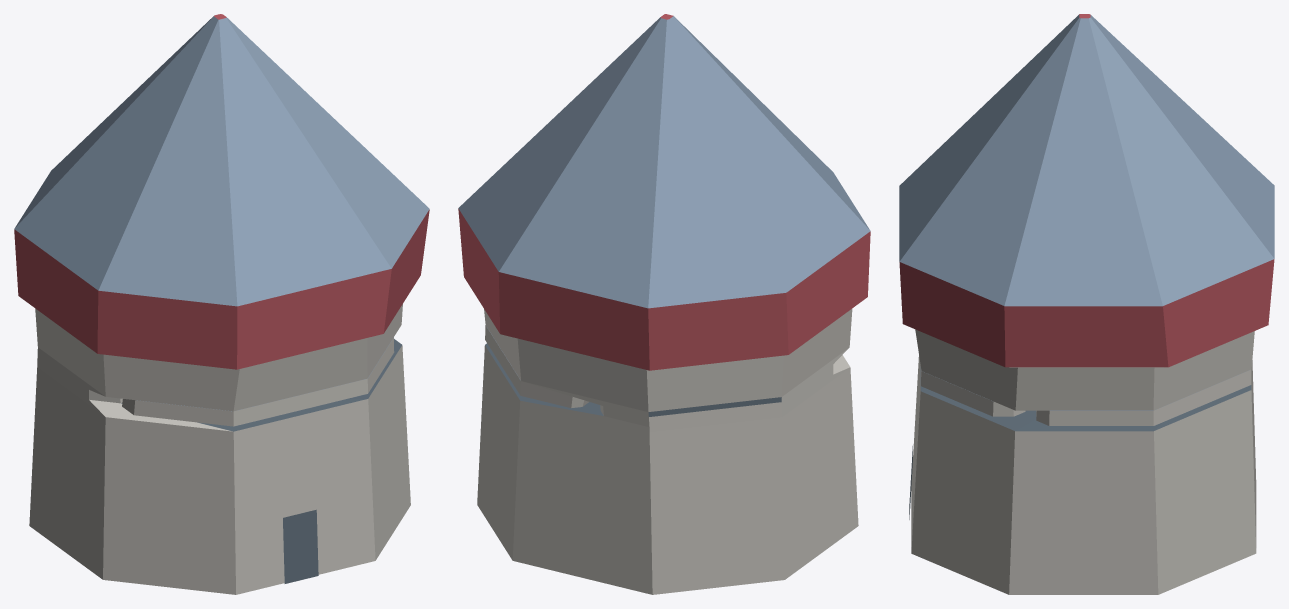
File: loin.glb
3 views of the same model, side by side, from view 1: azimuth 30°, elevation 25°; view 2: azimuth 150°, elevation 25°; view 3: azimuth 270°, elevation 25° (orthographic).
Visible parts, largest first — view 1: loin; view 2: loin; view 3: loin.
Part boxes in pixels (box(x1,y1,x2,y2)): loin: box(14, 14, 429, 594); loin: box(458, 14, 870, 594); loin: box(899, 14, 1274, 594).
Bounding box in the file's own units: 0.6574 × 0.9414 × 0.6357.
